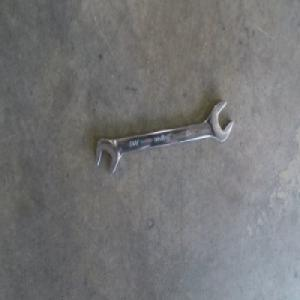Wrench: (95, 101, 234, 178)
